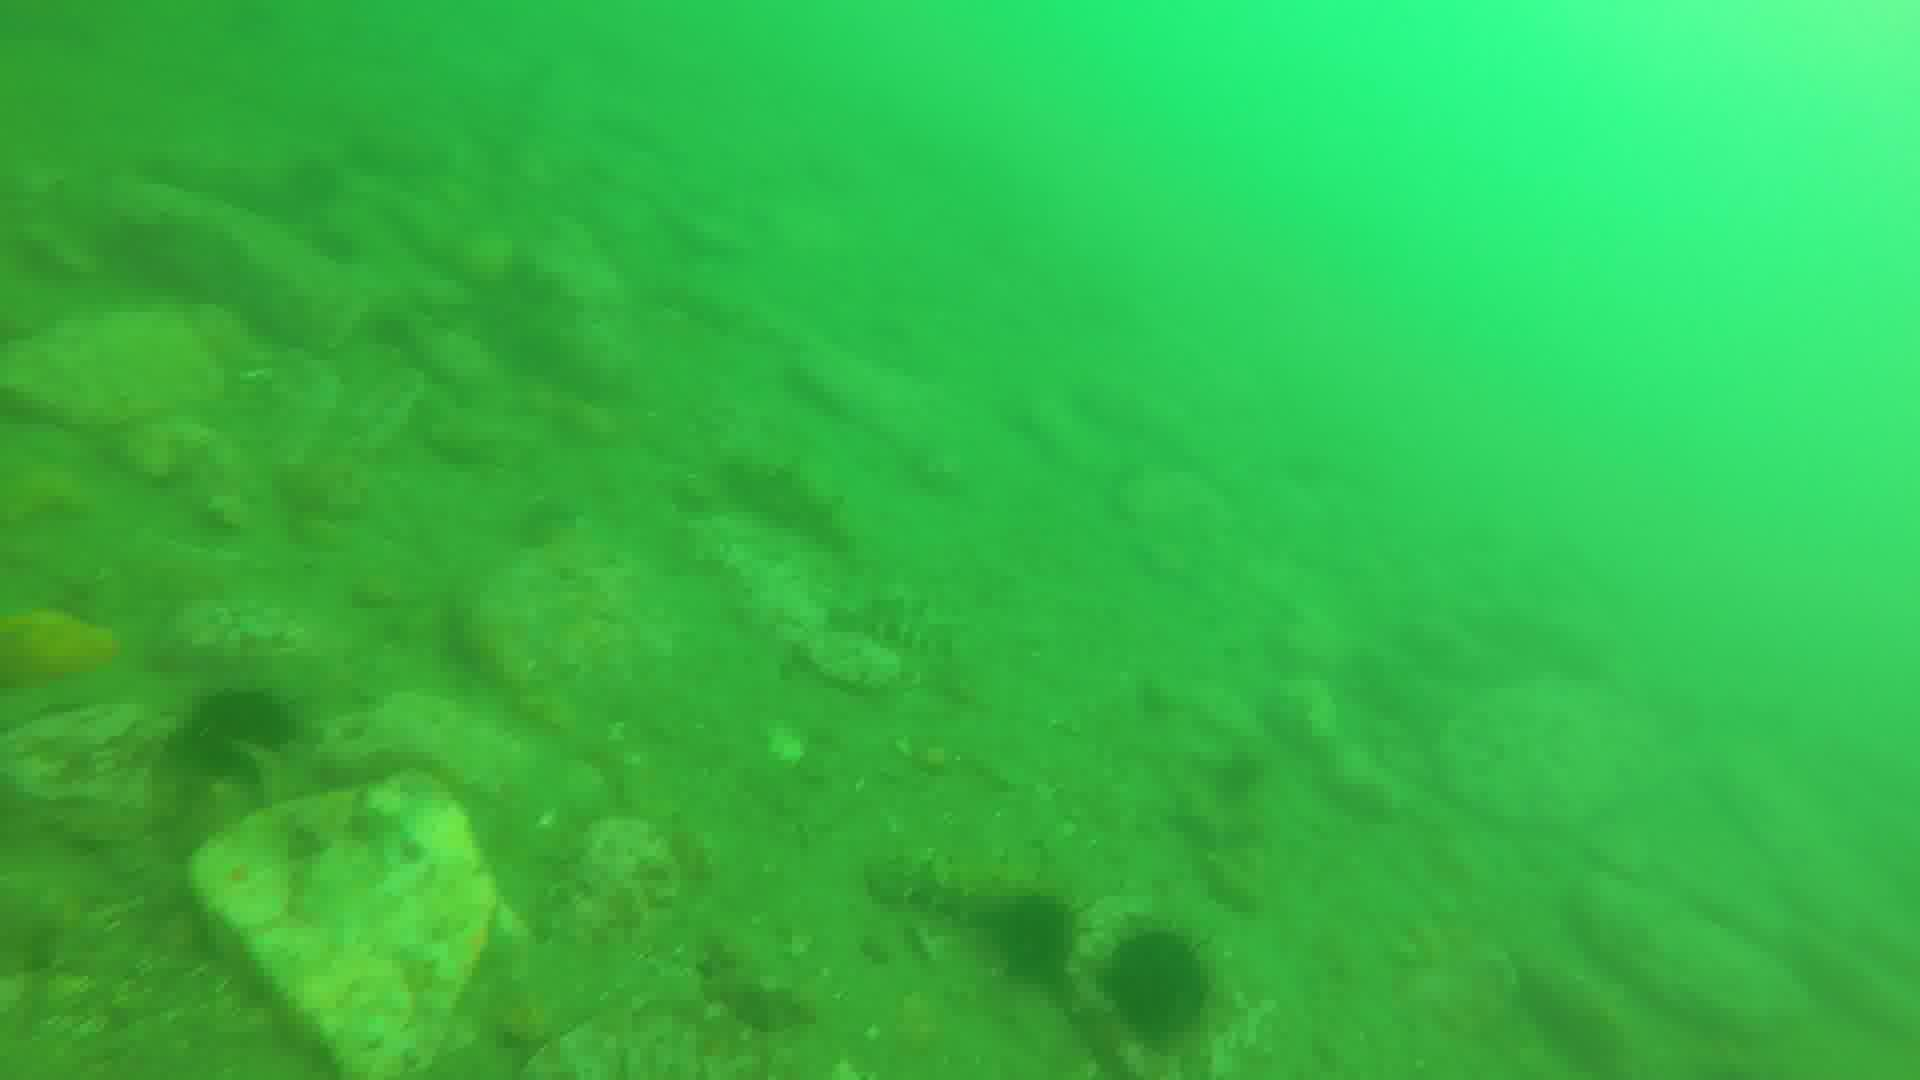echinus: (1112, 931, 1220, 1039), (190, 683, 294, 769), (978, 890, 1077, 975)
holothurian: (874, 837, 1009, 936), (827, 589, 949, 649)
